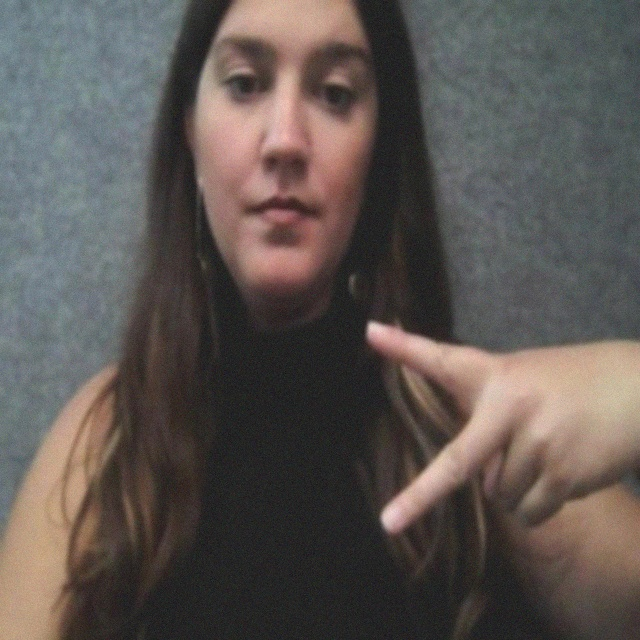Scissors: (337, 293, 640, 629)
